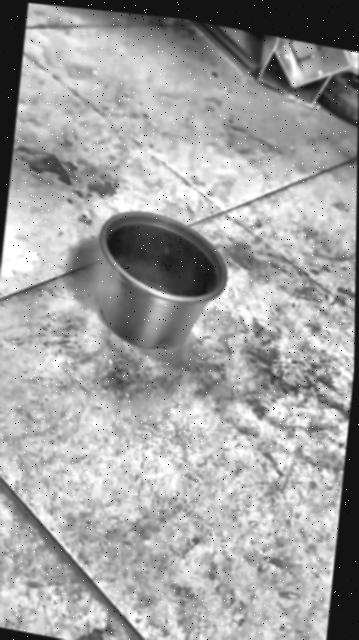pot: (88, 202, 233, 361)
